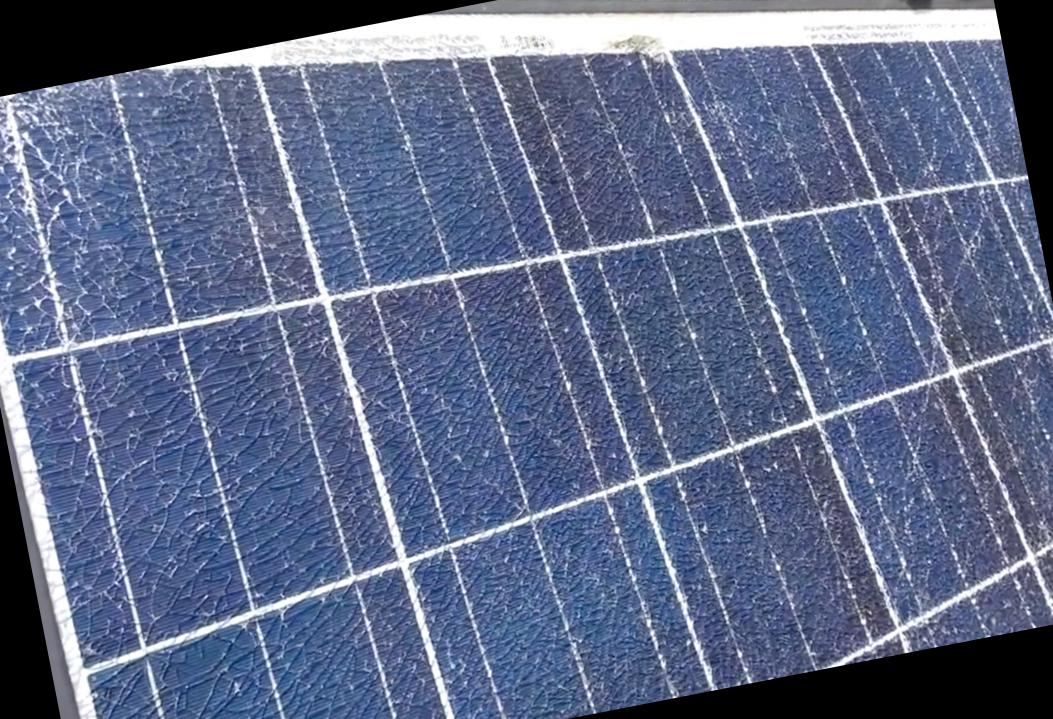Crack: (16, 317, 347, 628), (166, 40, 450, 318), (341, 266, 642, 528), (398, 489, 734, 718), (462, 29, 730, 272), (0, 72, 174, 357), (712, 444, 910, 681), (616, 234, 816, 468), (884, 390, 1052, 648), (85, 585, 397, 718), (790, 200, 964, 416), (713, 33, 879, 224), (872, 26, 1026, 199)
